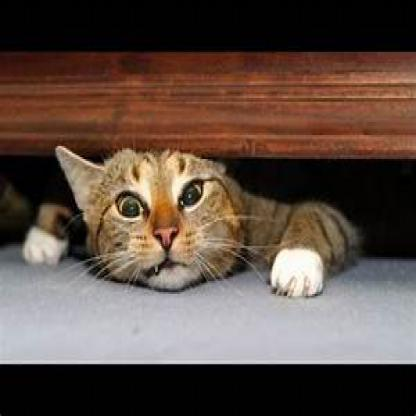cat: (30, 148, 364, 294)
